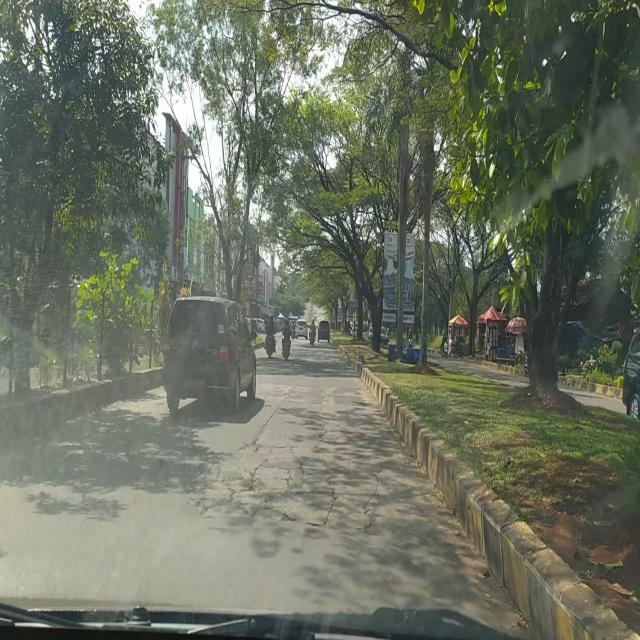Drain Hole: (196, 443, 377, 539)
